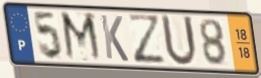5: (31, 10, 63, 61)
8: (198, 18, 228, 67)
K: (98, 13, 131, 64)
M: (58, 10, 105, 64)
U: (159, 12, 199, 69)
Z: (126, 12, 169, 66)
